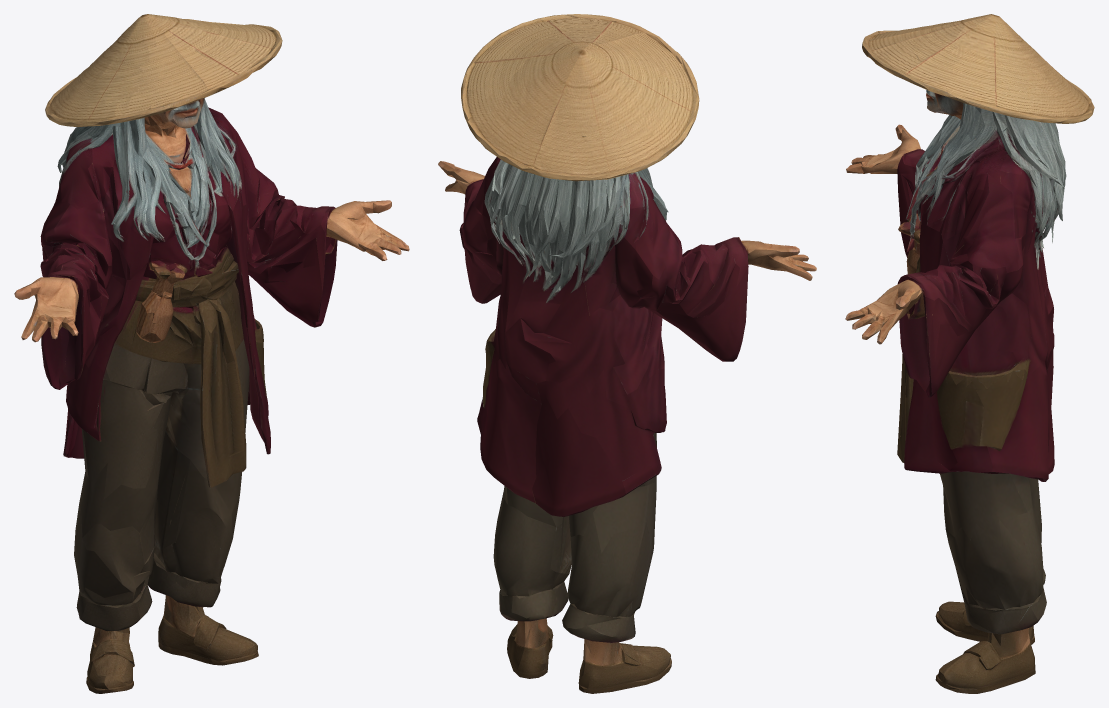
Rendered from mangkukulam.glb.
3 views of the same model, side by side, from view 1: azimuth 30°, elevation 25°; view 2: azimuth 150°, elevation 25°; view 3: azimuth 270°, elevation 25° (orthographic). The views are drawn at different scales.
Parts seen in each view (by area): view 1: mesh_node; view 2: mesh_node; view 3: mesh_node.
Boxes of the visible parts, box(x1,y1,x2,y2) form: mesh_node: box(14, 14, 409, 693); mesh_node: box(438, 14, 816, 693); mesh_node: box(845, 14, 1094, 693).
Bounding box in the file's own units: 1.17 × 1.9 × 0.6734.
1 material, 1 textured.
